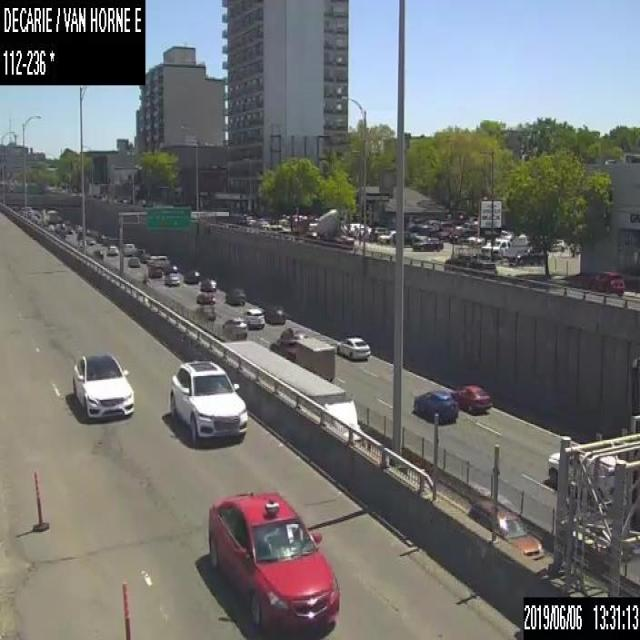construction: (32, 467, 50, 532), (121, 578, 133, 638)
vehicle: (206, 489, 342, 639), (223, 340, 362, 442), (166, 357, 248, 448), (548, 443, 628, 505), (467, 499, 545, 560), (70, 348, 135, 421), (267, 326, 333, 381), (291, 207, 352, 250), (412, 390, 457, 421), (449, 384, 492, 414), (443, 253, 496, 276), (585, 270, 625, 294), (502, 245, 546, 265), (336, 335, 370, 360), (480, 237, 510, 255), (222, 316, 247, 337), (222, 285, 245, 307), (241, 308, 264, 328), (448, 227, 474, 244), (412, 236, 442, 250), (262, 304, 284, 323), (390, 230, 415, 245), (368, 224, 388, 242), (195, 304, 215, 321), (195, 290, 215, 304), (465, 233, 486, 245), (184, 266, 198, 284), (354, 224, 371, 238), (147, 260, 161, 277), (200, 276, 217, 289), (378, 230, 396, 242), (347, 222, 362, 236), (164, 272, 179, 286), (122, 242, 134, 256), (128, 256, 139, 266), (92, 248, 103, 258), (108, 243, 116, 256), (87, 236, 95, 244)
